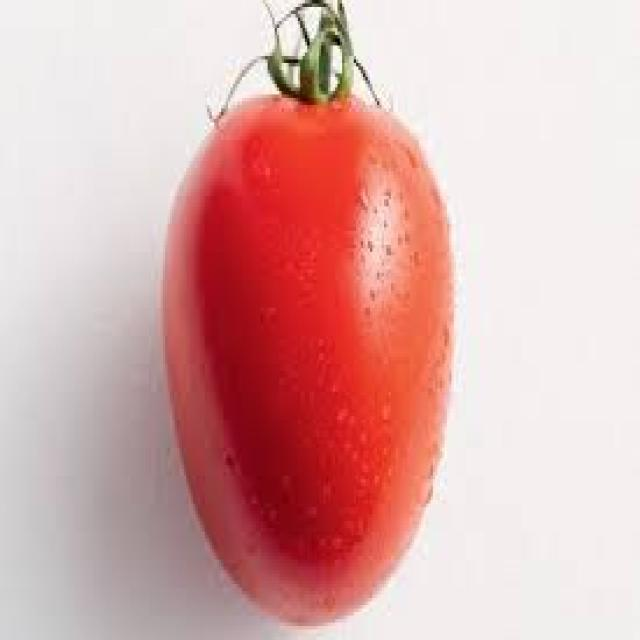Fresh_tomato: (156, 85, 456, 619)
